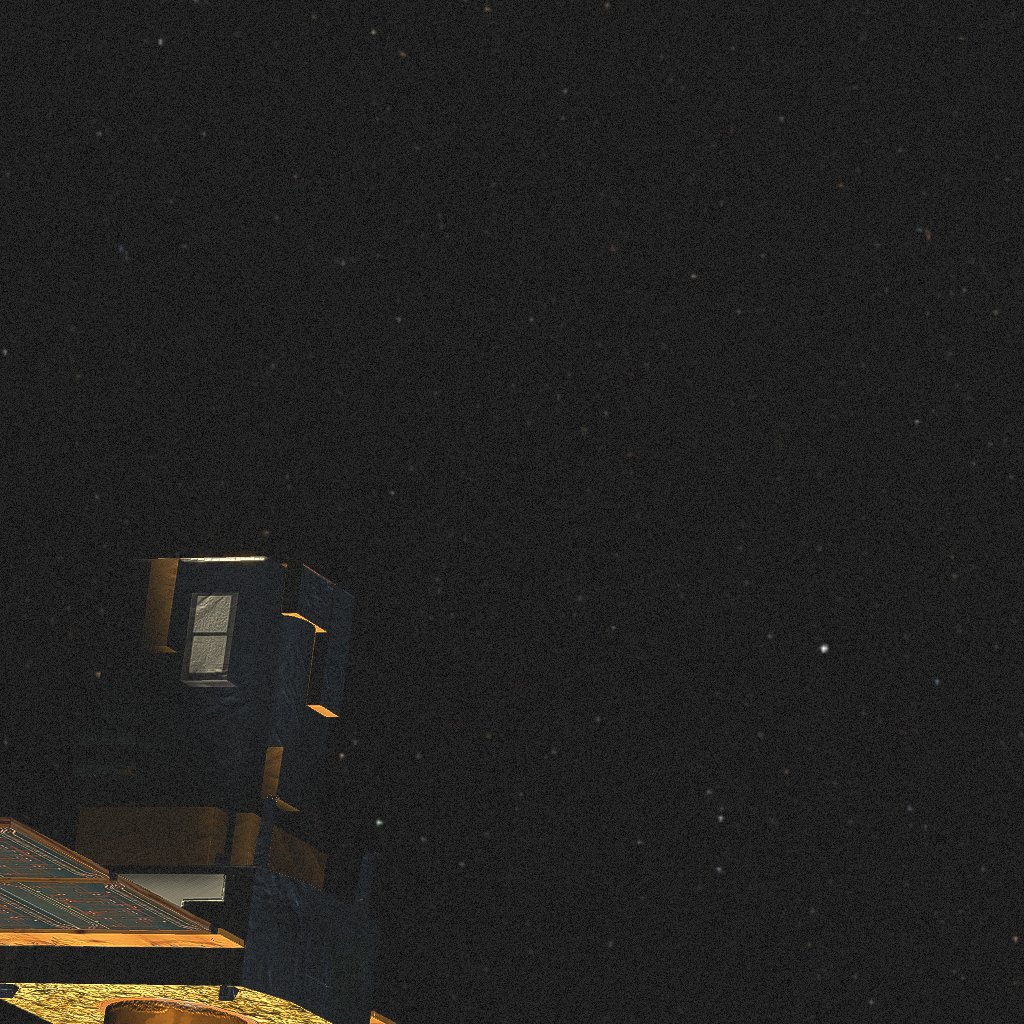soho: (47, 532, 383, 989)
